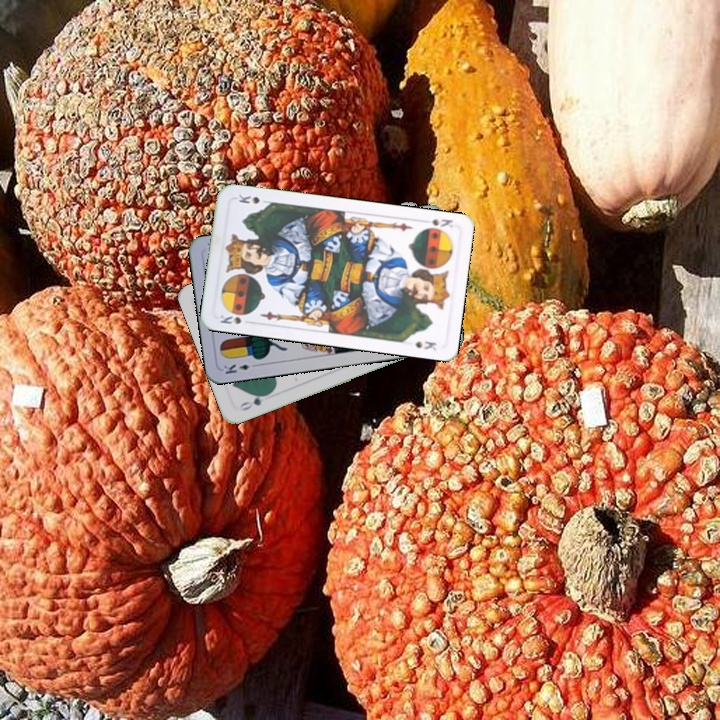EK: (219, 360, 260, 377)
GO: (235, 389, 272, 413)
SK: (216, 308, 253, 327), (427, 215, 458, 231)
